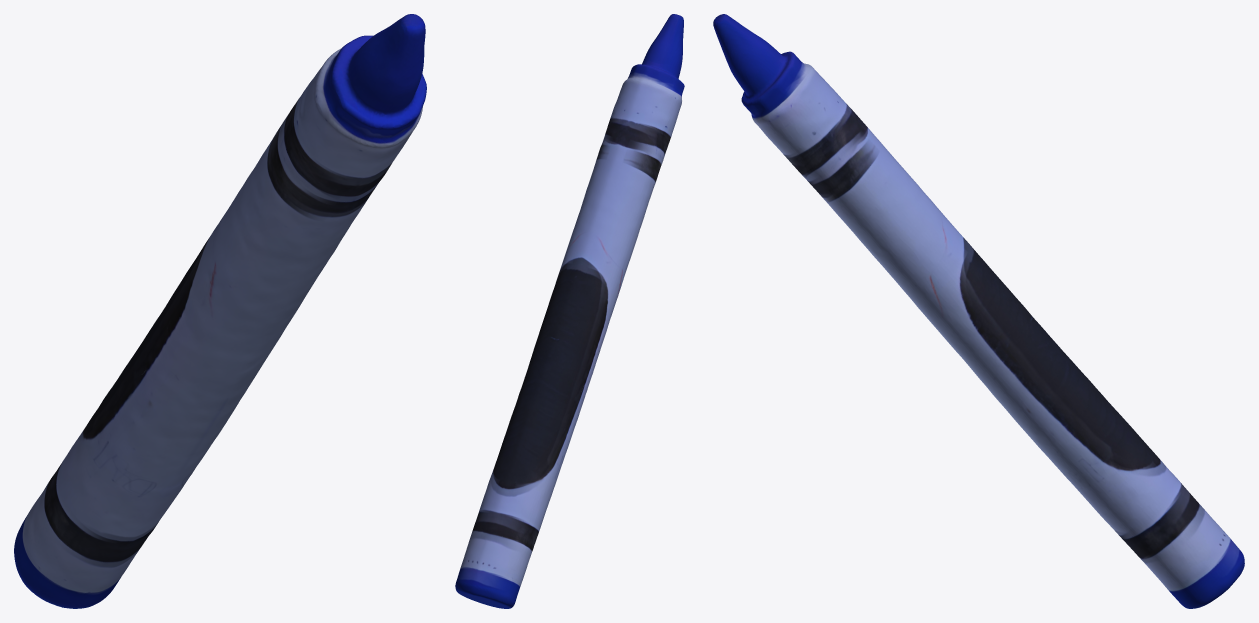
Rendered from tripo_pbr_model_0fa80dbd-fa39-4a32-a783-9b46fe86c436.glb.
The picture shows the model from 3 angles, left to right: view 1: azimuth 30°, elevation 25°; view 2: azimuth 150°, elevation 25°; view 3: azimuth 270°, elevation 25°; orthographic projection. The views are drawn at different scales.
Visible parts, largest first — view 1: tripo_node_0fa80dbd-fa39-4a32-a783-9b46fe86c436; view 2: tripo_node_0fa80dbd-fa39-4a32-a783-9b46fe86c436; view 3: tripo_node_0fa80dbd-fa39-4a32-a783-9b46fe86c436.
Part boxes in pixels (box(x1,y1,x2,y2)): tripo_node_0fa80dbd-fa39-4a32-a783-9b46fe86c436: box(14, 14, 426, 608); tripo_node_0fa80dbd-fa39-4a32-a783-9b46fe86c436: box(455, 14, 684, 608); tripo_node_0fa80dbd-fa39-4a32-a783-9b46fe86c436: box(713, 14, 1244, 608).
Bounding box in the file's own units: 0.1202 × 0.9455 × 0.7739.
Materials: 1 (1 with a texture image).
